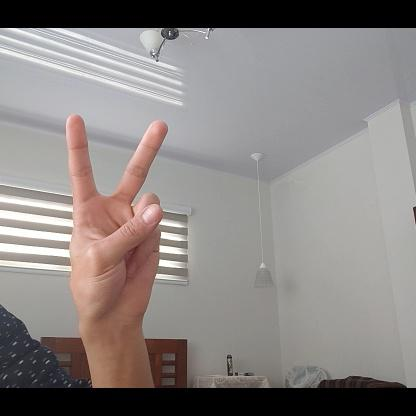V: (66, 109, 170, 326)
